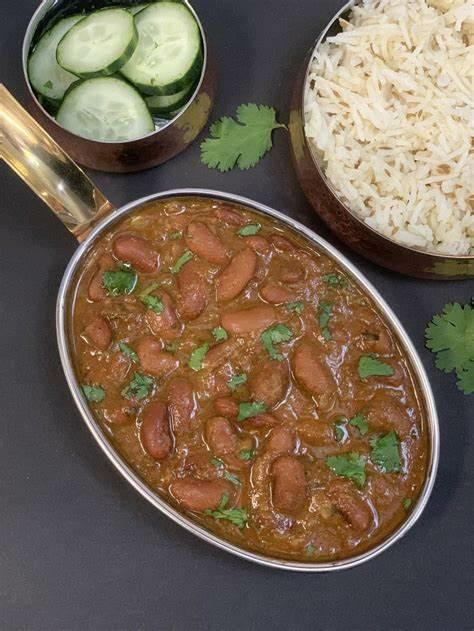RajmaCurry: (68, 193, 439, 558)
WhiteRice: (305, 0, 474, 253)
